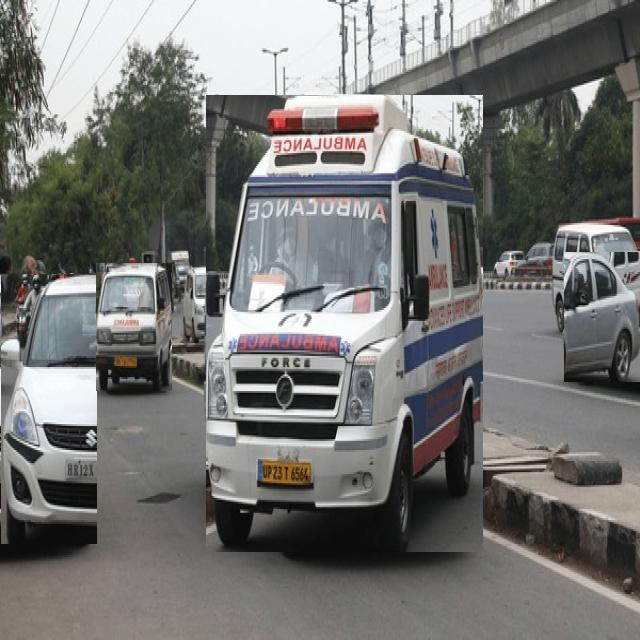car: (1, 275, 96, 544), (564, 253, 640, 382), (552, 220, 633, 327), (182, 266, 208, 340)
emergency: (206, 95, 482, 552), (96, 264, 171, 391)
